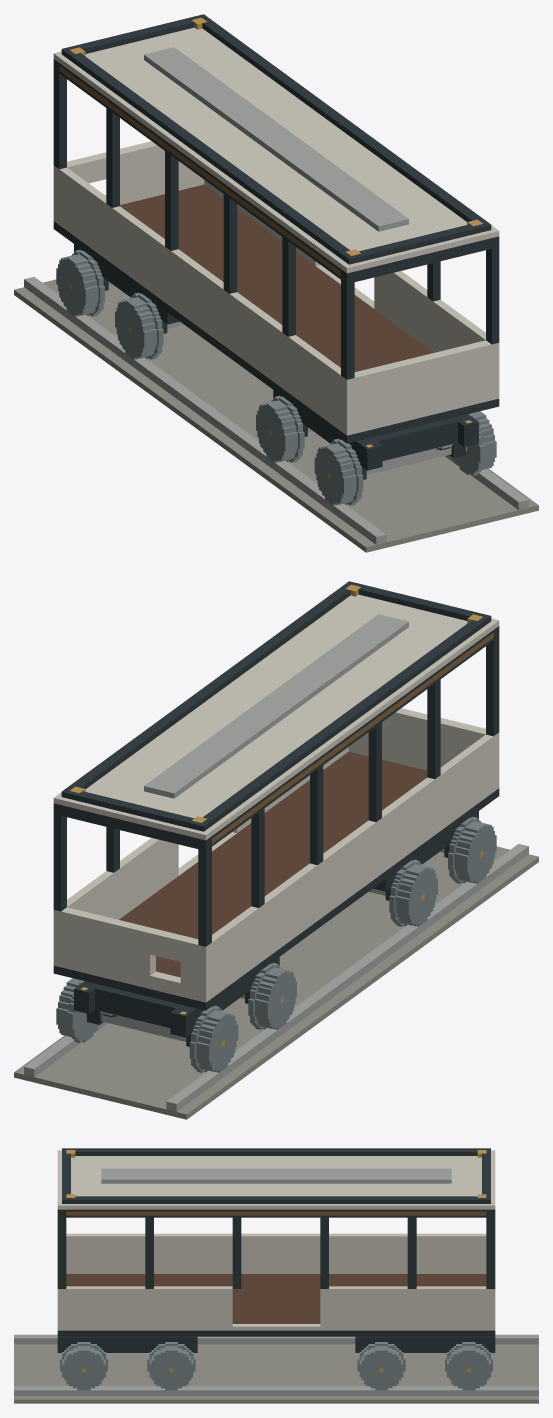
3 renders of one model, top to bottom at view 1: azimuth 30°, elevation 25°; view 2: azimuth 150°, elevation 25°; view 3: azimuth 270°, elevation 25°, orthographic. The views are drawn at different scales.
Parts seen in each view (by area): view 1: 既有公共载具体壳盒, 作者2.8m轨头中心距钢轨与地床（辅助）, 轻轨轮架和磁浮导向底座组件 (×2); view 2: 既有公共载具体壳盒, 作者2.8m轨头中心距钢轨与地床（辅助）, 轻轨轮架和磁浮导向底座组件 (×2); view 3: 既有公共载具体壳盒, 作者2.8m轨头中心距钢轨与地床（辅助）, 轻轨轮架和磁浮导向底座组件 (×2).
Boxes of the visible parts, x1=… form: 既有公共载具体壳盒: x1=53, y1=14, x2=499, y2=443; 作者2.8m轨头中心距钢轨与地床（辅助）: x1=14, y1=277, x2=538, y2=552; 轻轨轮架和磁浮导向底座组件 (×2): x1=56, y1=244, x2=496, y2=505; 既有公共载具体壳盒: x1=53, y1=581, x2=499, y2=1010; 作者2.8m轨头中心距钢轨与地床（辅助）: x1=14, y1=844, x2=538, y2=1119; 轻轨轮架和磁浮导向底座组件 (×2): x1=56, y1=811, x2=496, y2=1072; 既有公共载具体壳盒: x1=57, y1=1148, x2=495, y2=1336; 作者2.8m轨头中心距钢轨与地床（辅助）: x1=14, y1=1334, x2=538, y2=1403; 轻轨轮架和磁浮导向底座组件 (×2): x1=57, y1=1336, x2=495, y2=1390.
Bounding box in the file's own units: 3.4 × 5 × 12.
Materials: 9 (9 with a texture image).
